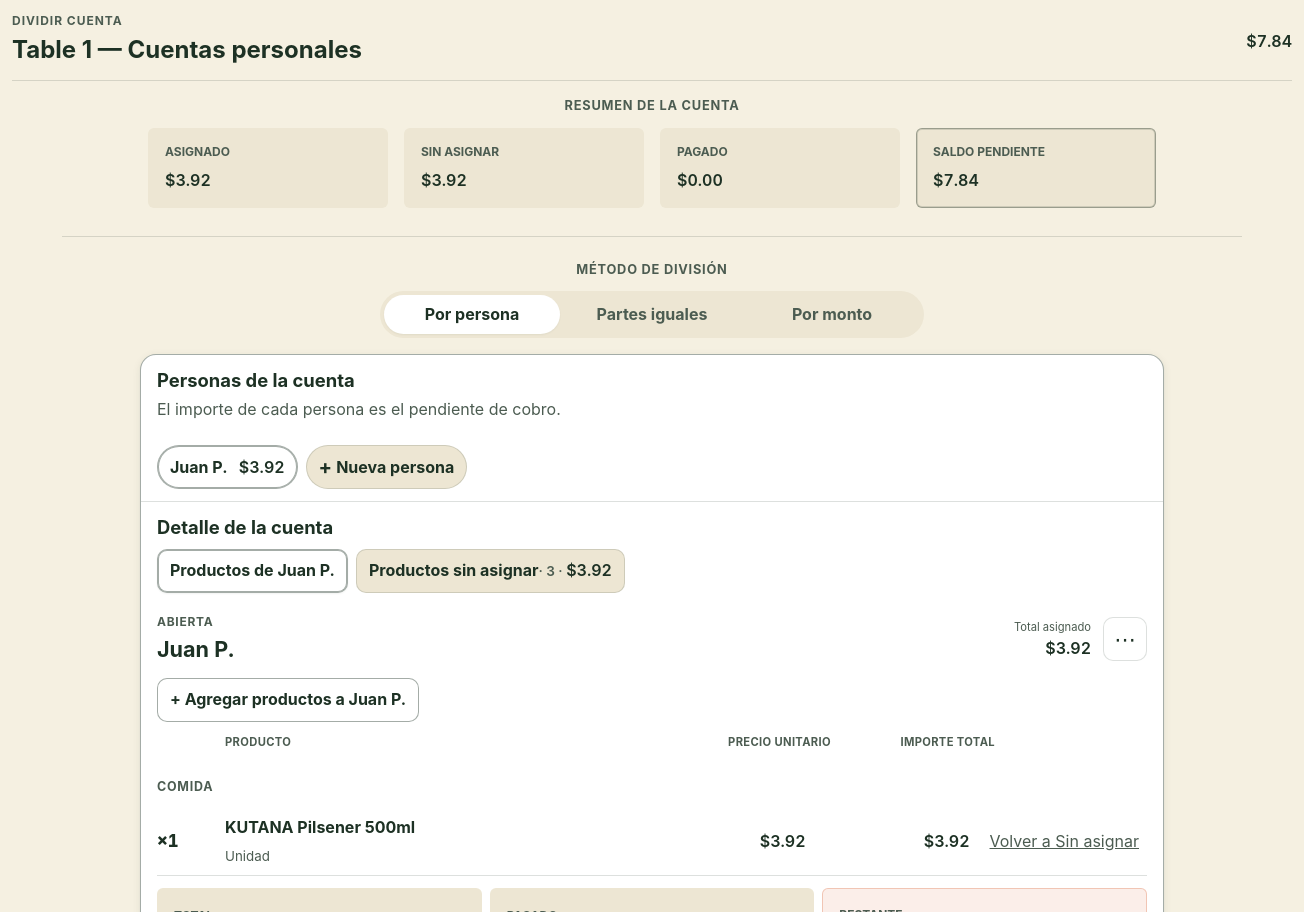
Scenario: SplitBillView › orders unassigned products with the same category sections as the order ticket
Click the tab "Productos sin asignar· 3 · $3.92" at (490, 571), box [356,549,625,593]
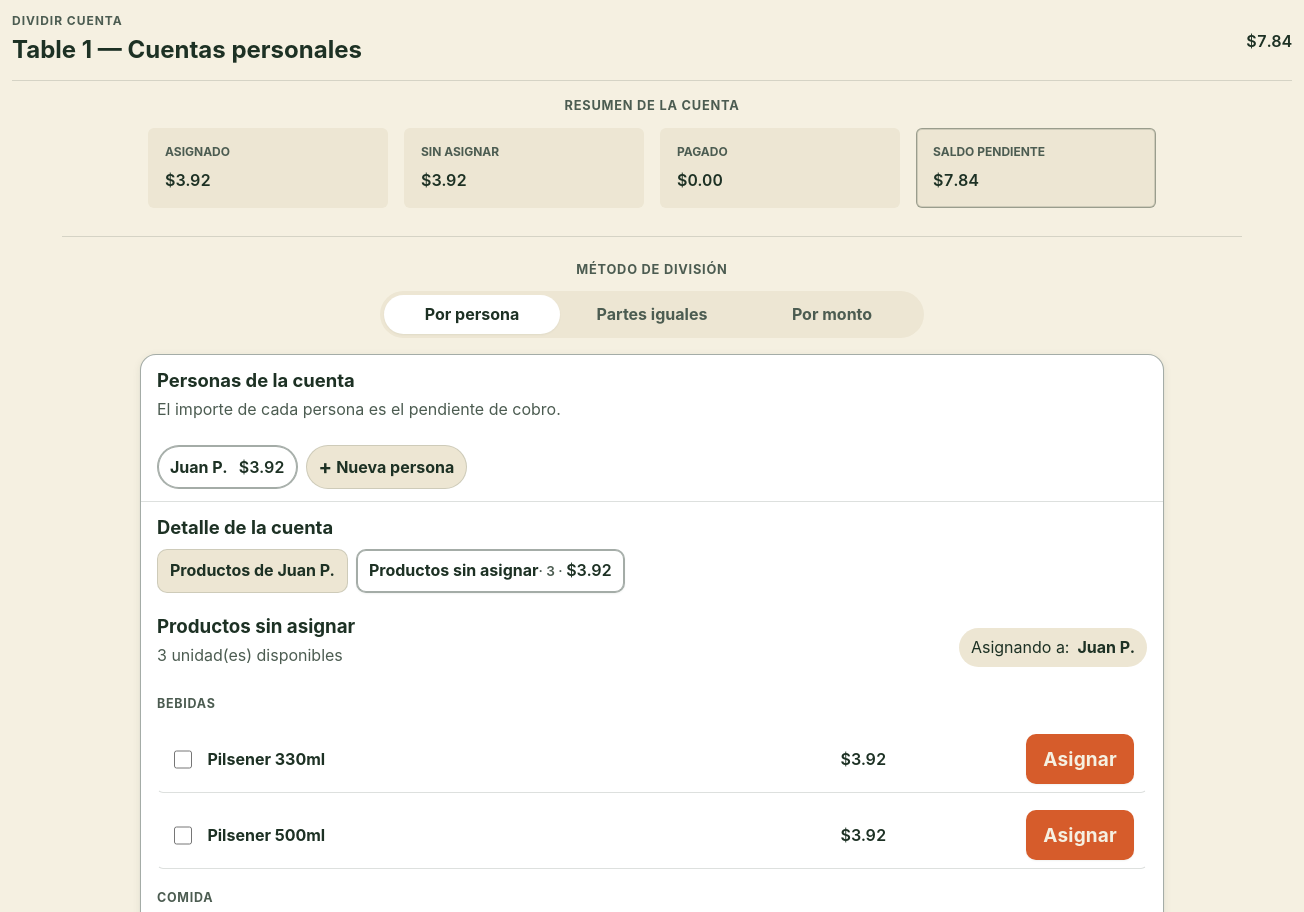
expect the headings read "Bebidas", "Comida", in this order: met, box [157,696,216,711]; [157,890,213,906]
